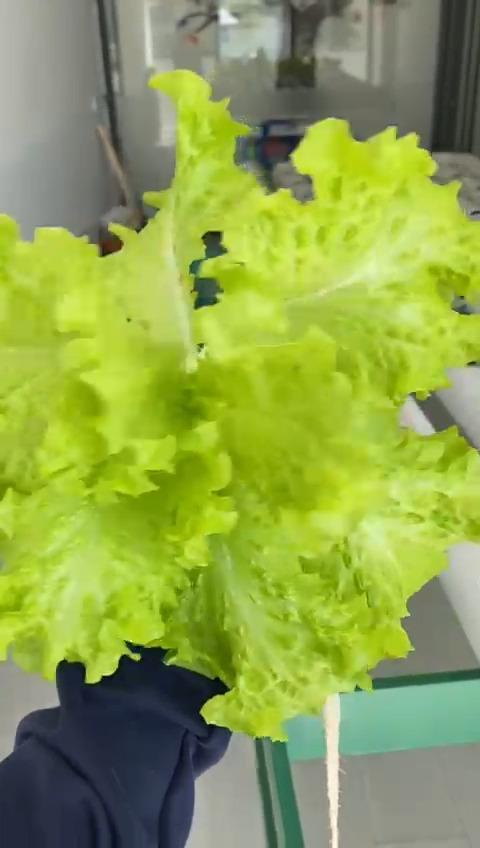Healthy: (0, 70, 480, 741)
